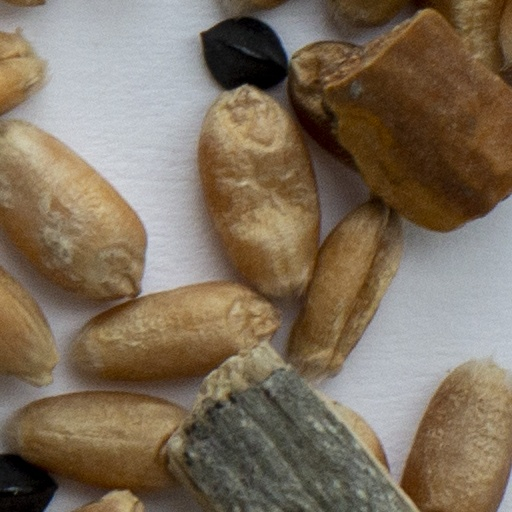Fallopia-Сonvolvulus-poly: (202, 19, 287, 89), (0, 455, 55, 511)
Peel-poly: (289, 19, 511, 230), (174, 354, 412, 511)
